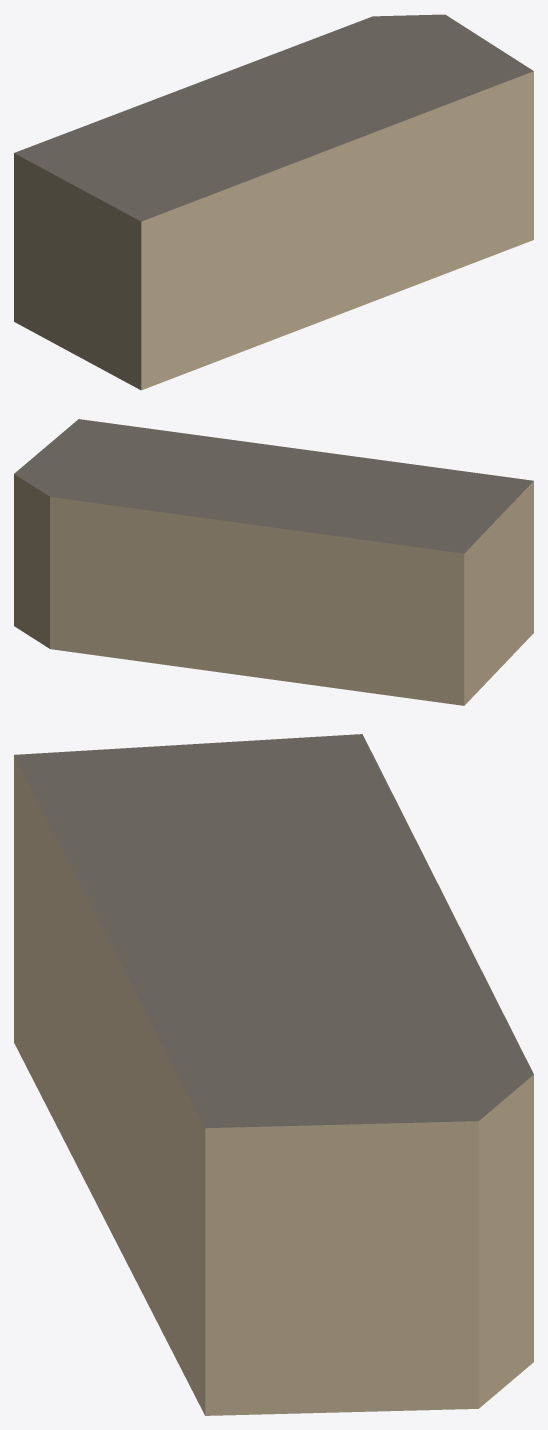
The picture shows the model from 3 angles, top to bottom: view 1: azimuth 30°, elevation 25°; view 2: azimuth 150°, elevation 25°; view 3: azimuth 270°, elevation 25°; orthographic projection. The views are drawn at different scales.
Parts seen in each view (by area): view 1: HP-w300651726; view 2: HP-w300651726; view 3: HP-w300651726.
Boxes of the visible parts, x1,y1,x2,y2 form: HP-w300651726: [14, 14, 533, 390]; HP-w300651726: [14, 419, 533, 705]; HP-w300651726: [14, 734, 533, 1415].
Bounding box in the file's own units: 38.78 × 13.2 × 21.62.
